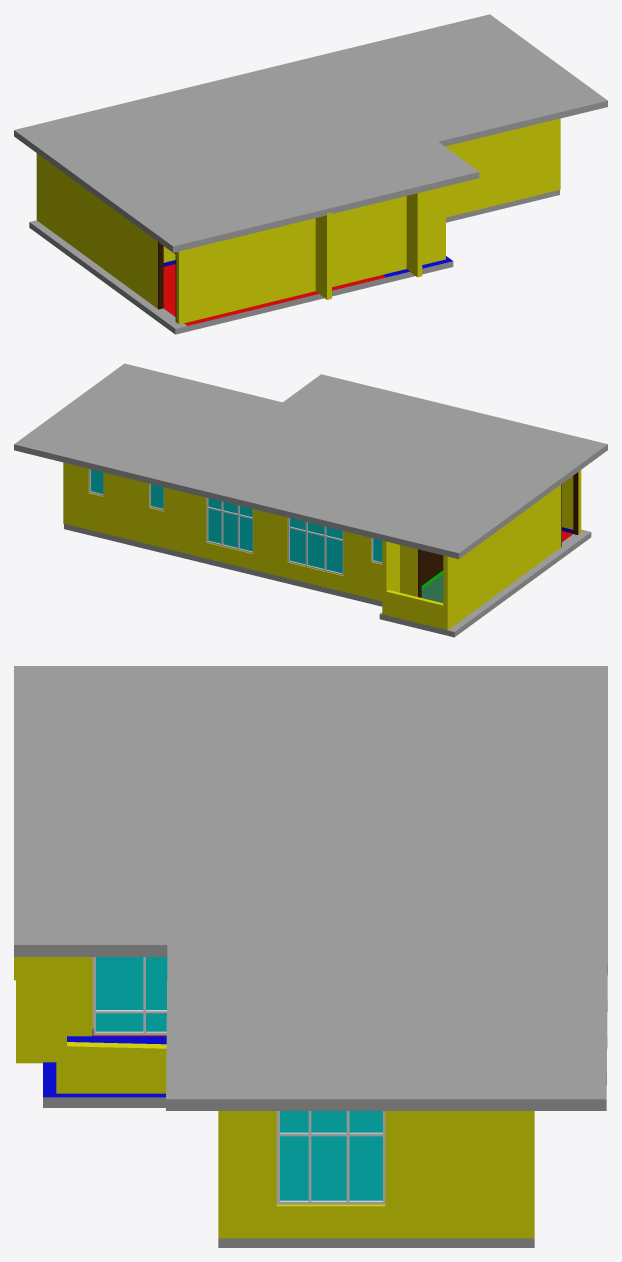
The model's file is Wing_B_Flat_No_02_Type01MtID.fbx.
3 renders of one model, top to bottom at view 1: azimuth 30°, elevation 25°; view 2: azimuth 150°, elevation 25°; view 3: azimuth 270°, elevation 25°, orthographic. The views are drawn at different scales.
Parts seen in each view (by area): view 1: Roof1, Walls, Floor, Wing_A_Flat_No_04_Type02:Flat_No_03_Type03:pCube7; view 2: Roof1, Walls, Floor, Glass1, Wing_A_Flat_No_04_Type02:Glass1, Window_Frame, Wing_A_Flat_No_04_Type02:Window_Frame, Wing_A_Flat_No_04_Type02:Flat_No_03_Type03:pCube7; view 3: Roof1, Walls, Wing_A_Flat_No_04_Type02:Flat_No_03_Type03:Glass1, Floor, Wing_A_Flat_No_04_Type02:Flat_No_03_Type03:Door_Glass1, Wing_A_Flat_No_04_Type02:Flat_No_03_Type03:Window_Frame, Wing_A_Flat_No_04_Type02:Flat_No_03_Type03:Door_frame_03.
Boxes of the visible parts, x1=… form: Roof1: x1=14, y1=14, x2=607, y2=252; Walls: x1=36, y1=118, x2=560, y2=324; Floor: x1=29, y1=190, x2=559, y2=334; Wing_A_Flat_No_04_Type02:Flat_No_03_Type03:pCube7: x1=158, y1=242, x2=176, y2=321; Roof1: x1=14, y1=363, x2=607, y2=558; Walls: x1=63, y1=462, x2=581, y2=630; Floor: x1=64, y1=523, x2=591, y2=637; Glass1: x1=290, y1=518, x2=342, y2=573; Wing_A_Flat_No_04_Type02:Glass1: x1=208, y1=498, x2=252, y2=551; Window_Frame: x1=288, y1=517, x2=343, y2=575; Wing_A_Flat_No_04_Type02:Window_Frame: x1=206, y1=497, x2=253, y2=553; Wing_A_Flat_No_04_Type02:Flat_No_03_Type03:pCube7: x1=561, y1=472, x2=578, y2=546; Roof1: x1=14, y1=666, x2=607, y2=1110; Walls: x1=14, y1=957, x2=534, y2=1238; Wing_A_Flat_No_04_Type02:Flat_No_03_Type03:Glass1: x1=280, y1=1111, x2=382, y2=1200; Floor: x1=43, y1=1035, x2=534, y2=1247; Wing_A_Flat_No_04_Type02:Flat_No_03_Type03:Door_Glass1: x1=96, y1=957, x2=167, y2=1031; Wing_A_Flat_No_04_Type02:Flat_No_03_Type03:Window_Frame: x1=276, y1=1111, x2=385, y2=1204; Wing_A_Flat_No_04_Type02:Flat_No_03_Type03:Door_frame_03: x1=92, y1=957, x2=166, y2=1035.
Bounding box in the file's own units: 1722 × 333 × 998.
